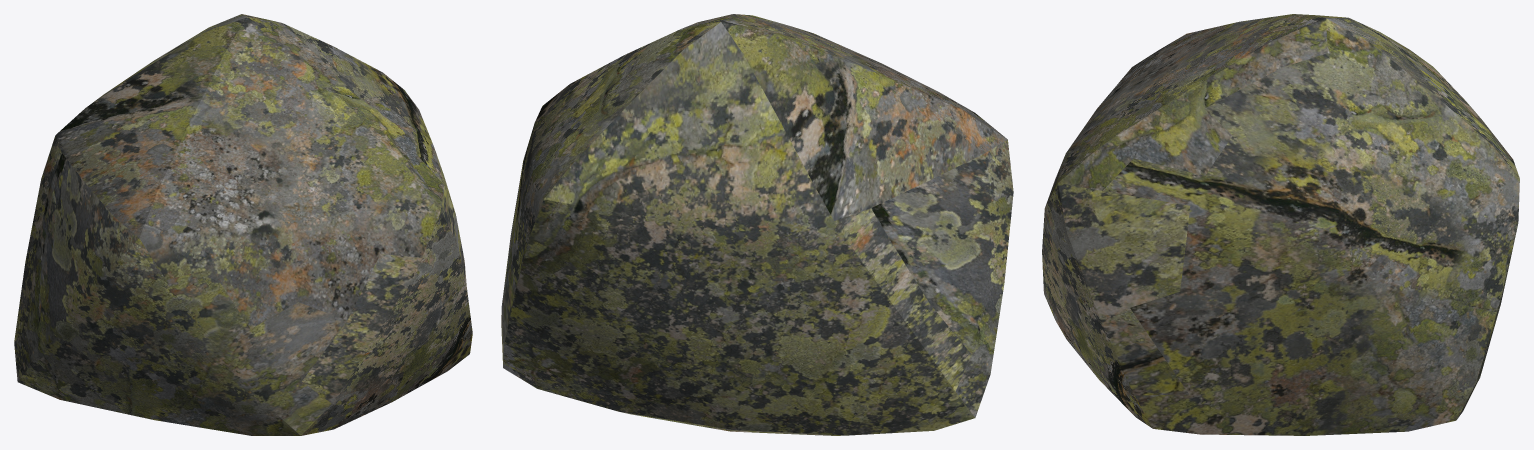
File: rocks_04.glb
3 renders of one model, left to right at view 1: azimuth 30°, elevation 25°; view 2: azimuth 150°, elevation 25°; view 3: azimuth 270°, elevation 25°, orthographic. The views are drawn at different scales.
Parts seen in each view (by area): view 1: Rock3_Rock_0; view 2: Rock3_Rock_0; view 3: Rock3_Rock_0.
Part boxes in pixels (x1,y1,x2,y2): Rock3_Rock_0: (14,14,472,435); Rock3_Rock_0: (501,14,1013,435); Rock3_Rock_0: (1042,14,1519,435).
Bounding box in the file's own units: 0.4089 × 0.3345 × 0.3985.
1 material, 1 textured.
